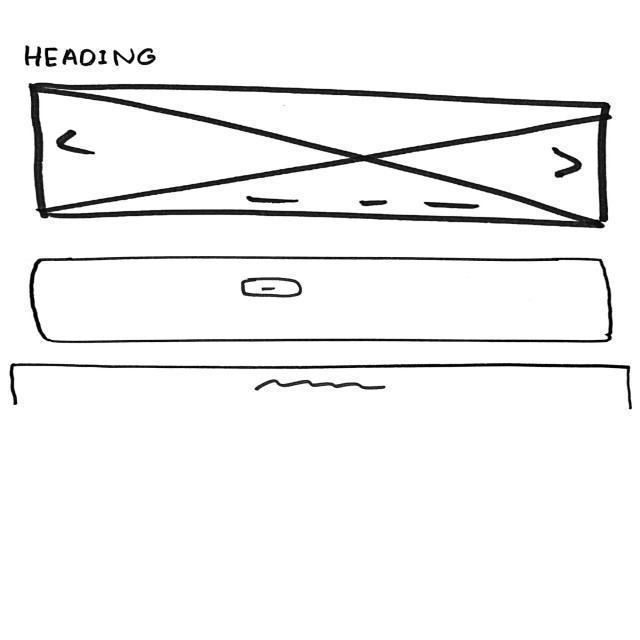container: (32, 256, 616, 344)
icon-button: (239, 278, 306, 300)
image: (28, 83, 611, 231)
label: (23, 45, 160, 68)
text: (257, 379, 389, 395)
